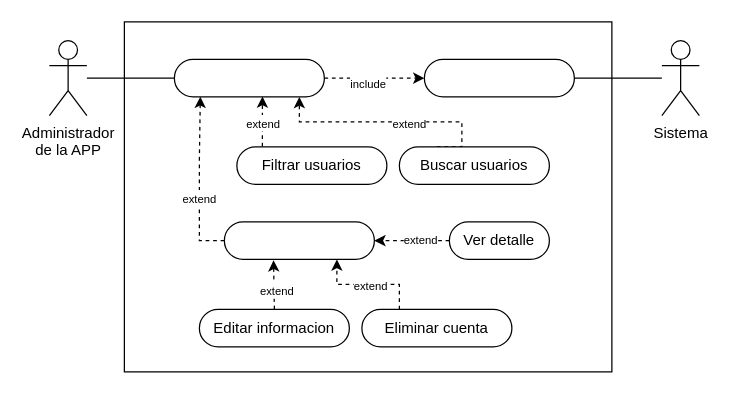
This 729x394 diagram has some shape labels left out. Here are the shapes that lost their labels. From the top down, the centre of each, then its label:
At (248,77): "Gestionar usuarios".
At (498,77): "Listar usuarios".
At (298,240): "Seleccionar usuario".
